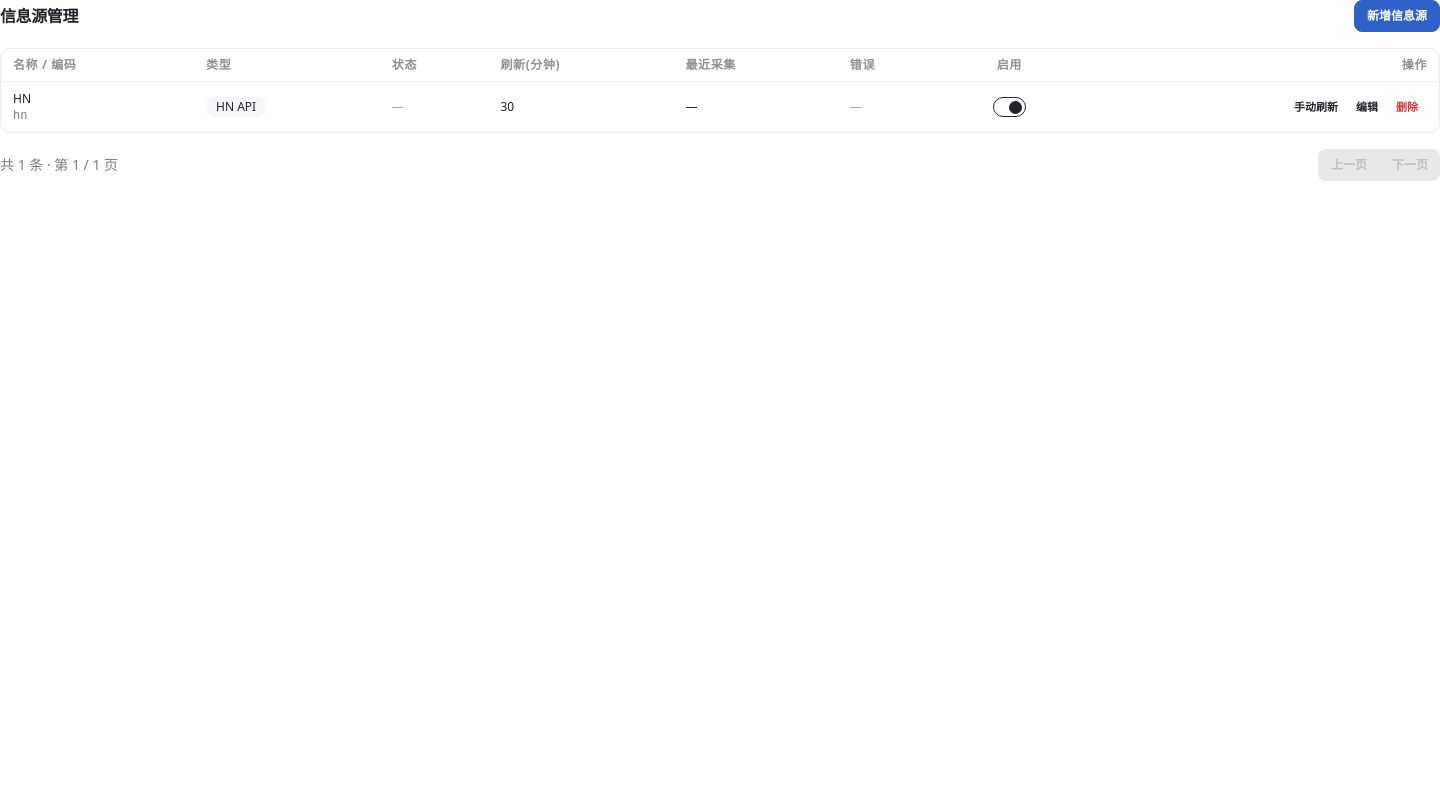
Test: SourceManager 新增/编辑对话框 › 编辑:按记录回填表单,提交走更新接口
Click the button "编辑": coordinates (1367, 107) 1347,95 -> 1387,119
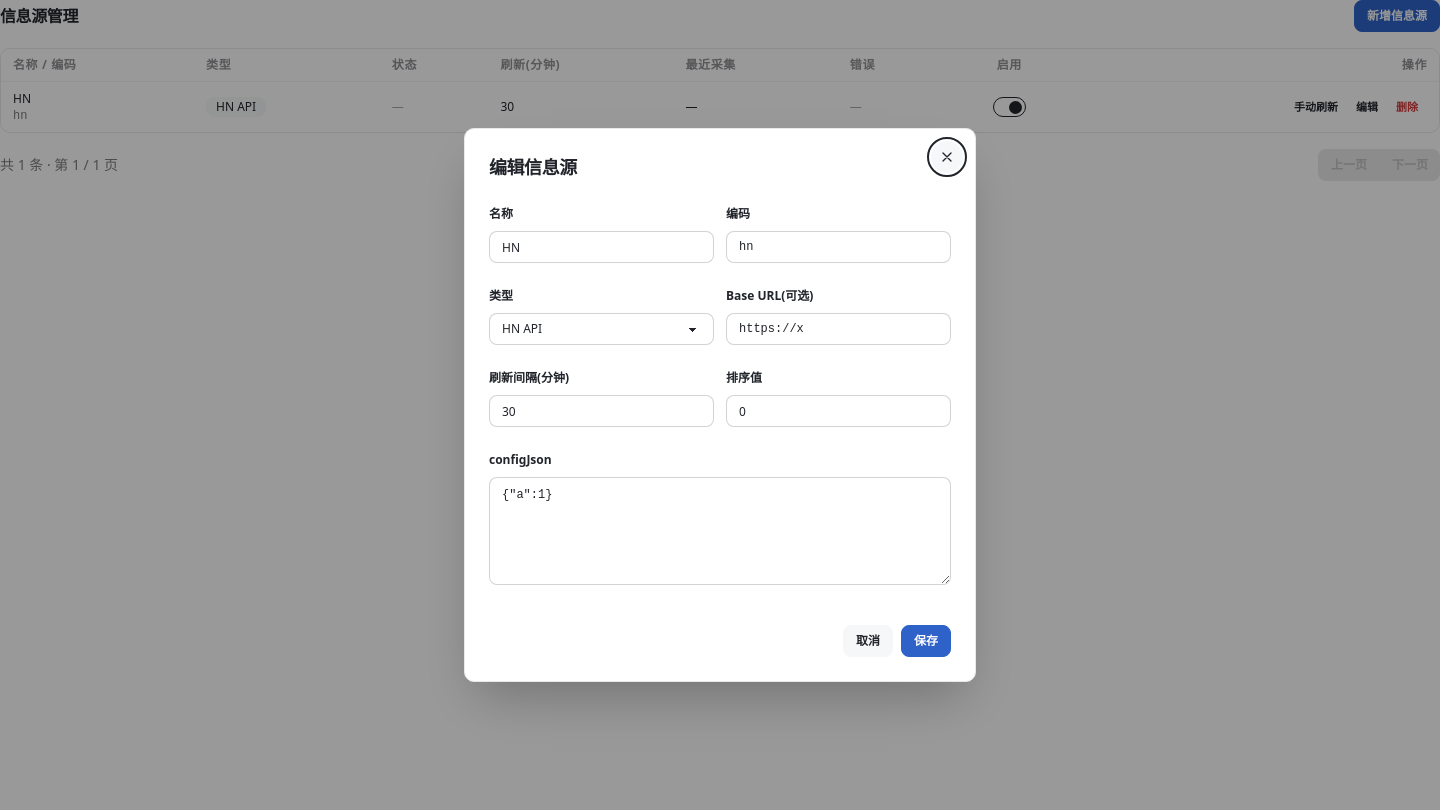
Expected: the 1st field with placeholder "例:V2EX 热帖" holds "HN"
Replace the text in the 1st field with placeholder "例:V2EX 热帖" with "HN2": coordinates (602, 247) 489,231 -> 714,263
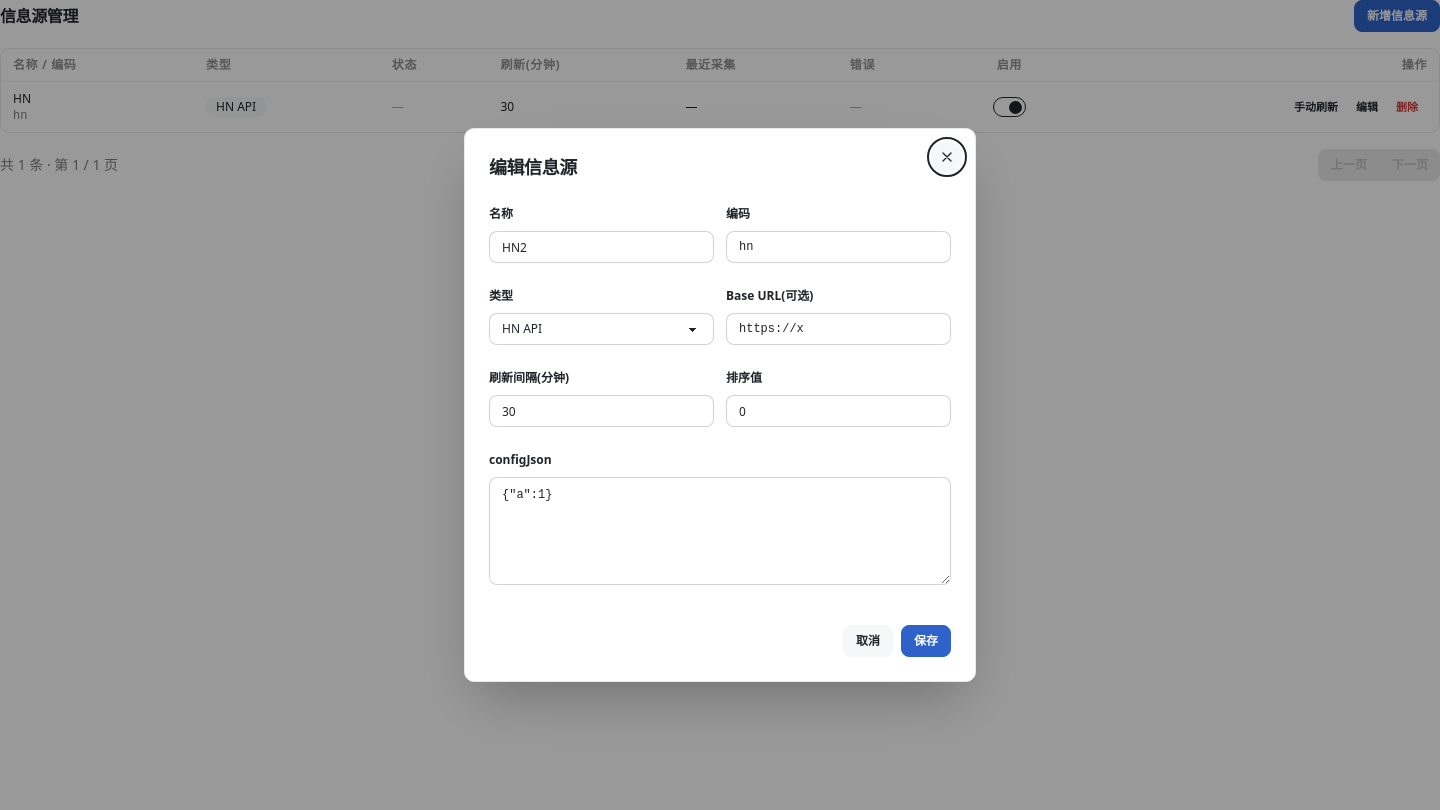
Submit the form "名称 编码 类型 Base URL(可选) 刷新间隔(分钟) 排序值 configJson 取消 保存", box 489,197 -> 951,657
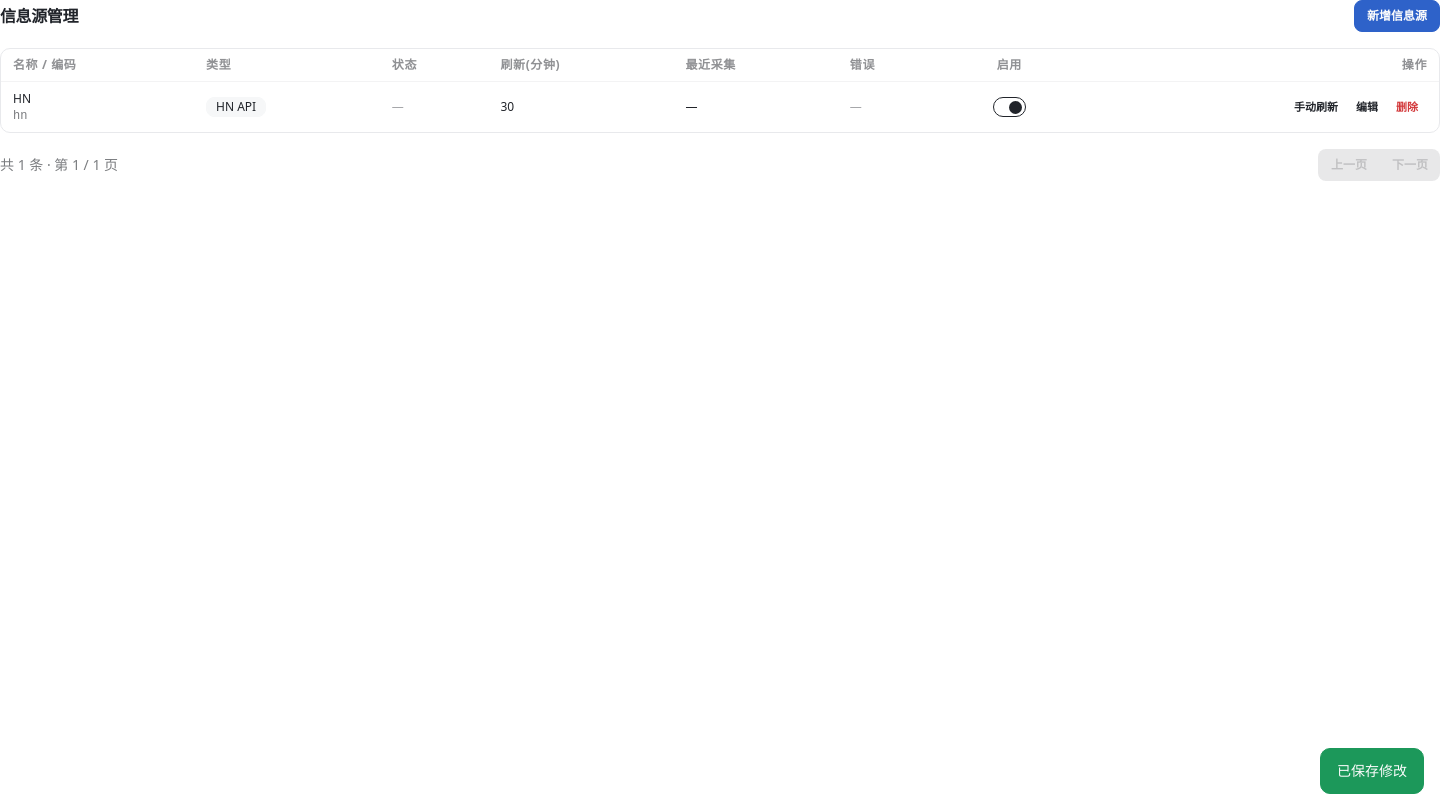
Expected: the text "已保存修改" is shown, 1337,761 -> 1407,781
